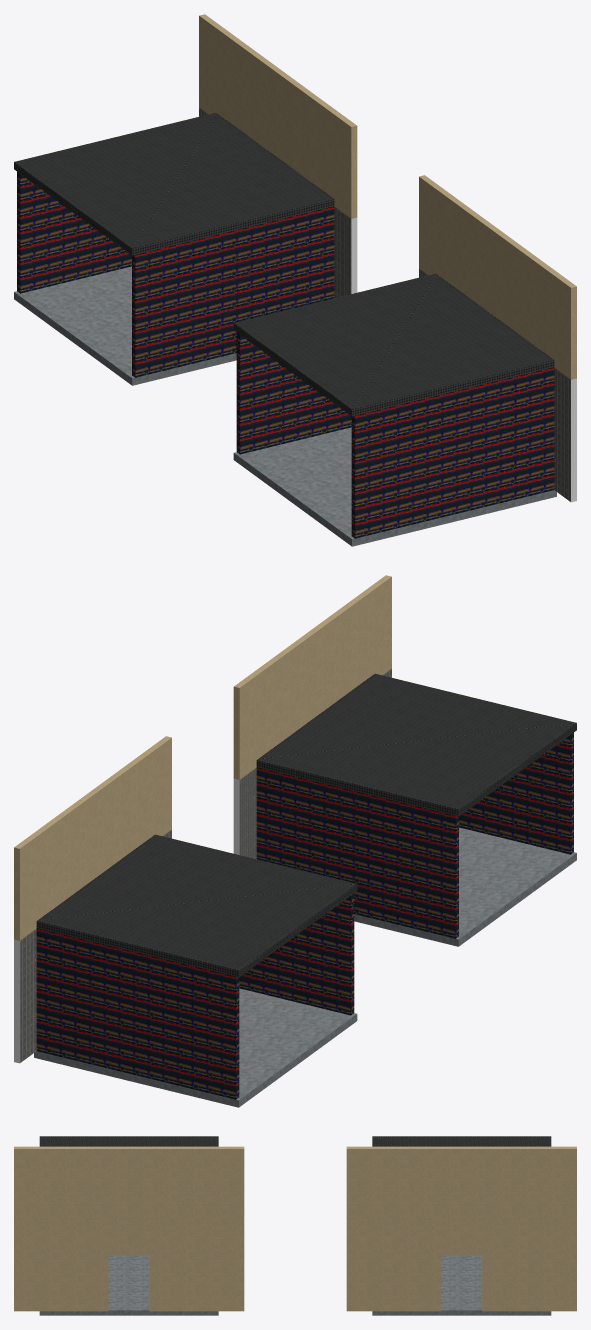
Rendered from SILENT_Room_04_Structure.fbx.
3 renders of one model, top to bottom at view 1: azimuth 30°, elevation 25°; view 2: azimuth 150°, elevation 25°; view 3: azimuth 270°, elevation 25°, orthographic. The views are drawn at different scales.
Visible parts, largest first — view 1: Room_04_A_Structure, Room_04_B_Structure, Ceiling.003, Ceiling.010; view 2: Room_04_B_Structure, Room_04_A_Structure, Ceiling.010, Ceiling.003; view 3: Room_04_A_Structure, Room_04_B_Structure, Ceiling.003, Ceiling.010.
Boxes of the visible parts, left/top/right/bottom form: Room_04_A_Structure: left=233, top=175, right=576, bottom=546; Room_04_B_Structure: left=14, top=14, right=357, bottom=385; Ceiling.003: left=233, top=273, right=554, bottom=416; Ceiling.010: left=14, top=112, right=334, bottom=255; Room_04_B_Structure: left=14, top=736, right=357, bottom=1107; Room_04_A_Structure: left=233, top=575, right=576, bottom=946; Ceiling.010: left=36, top=834, right=357, bottom=977; Ceiling.003: left=256, top=673, right=576, bottom=816; Room_04_A_Structure: left=14, top=1146, right=244, bottom=1315; Room_04_B_Structure: left=346, top=1146, right=576, bottom=1315; Ceiling.003: left=39, top=1136, right=218, bottom=1146; Ceiling.010: left=372, top=1136, right=551, bottom=1146.
Bounding box in the file's own units: 7.1 × 7.24 × 22.
6 materials, 5 textured.
